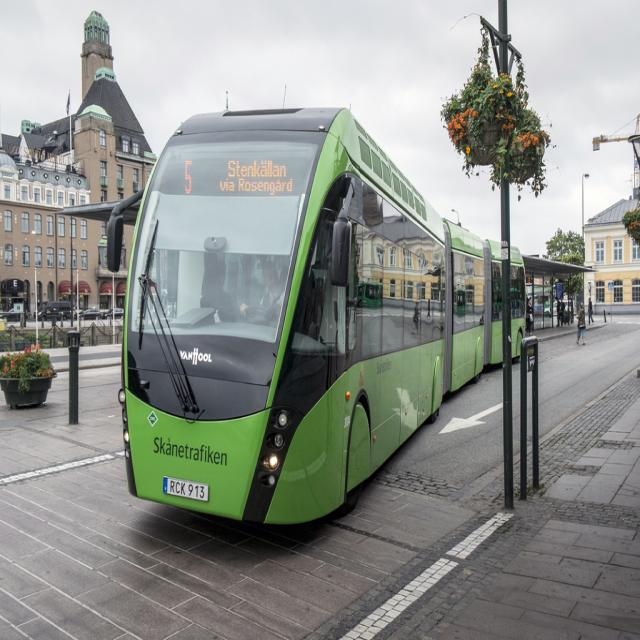car: (33, 298, 77, 321)
